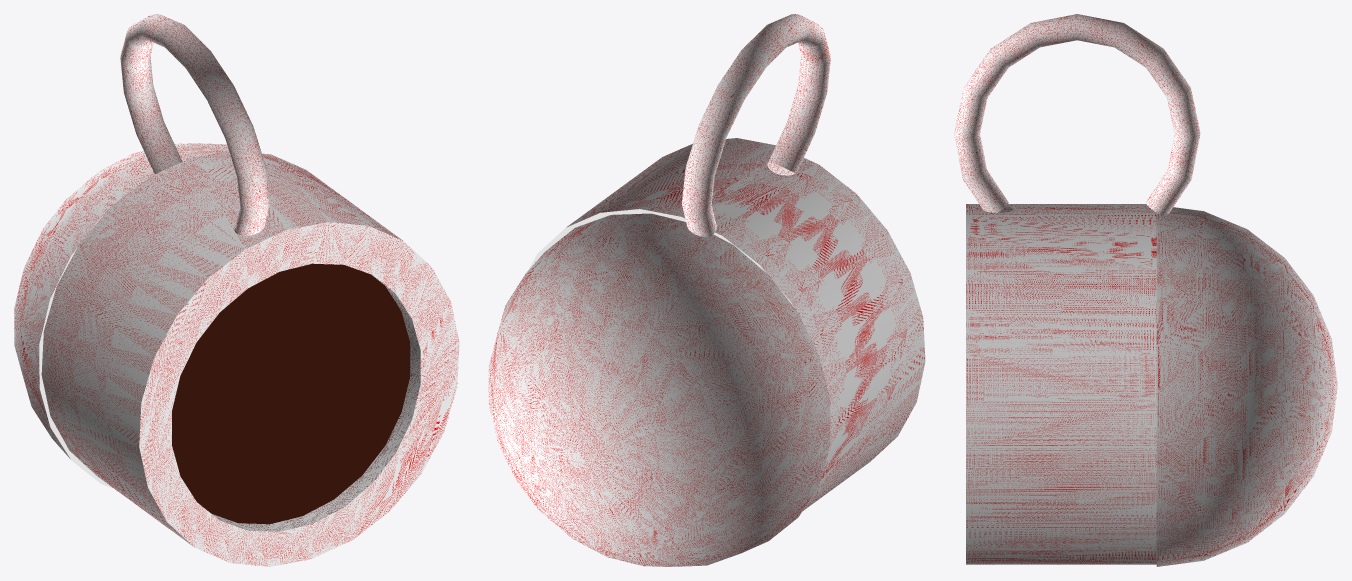
File: model_scale.obj
3 views of the same model, side by side, from view 1: azimuth 30°, elevation 25°; view 2: azimuth 150°, elevation 25°; view 3: azimuth 270°, elevation 25° (orthographic). The views are drawn at different scales.
Visible parts, largest first — view 1: mesh2_mesh2-geometry, mesh1_mesh1-geometry; view 2: mesh1_mesh1-geometry, mesh2_mesh2-geometry; view 3: mesh2_mesh2-geometry, mesh1_mesh1-geometry.
Part boxes in pixels (x1,y1,x2,y2): mesh2_mesh2-geometry: (41, 14, 459, 566); mesh1_mesh1-geometry: (14, 143, 228, 488); mesh1_mesh1-geometry: (488, 213, 830, 566); mesh2_mesh2-geometry: (528, 14, 925, 510); mesh2_mesh2-geometry: (954, 14, 1200, 564); mesh1_mesh1-geometry: (1156, 207, 1337, 566).
Size of the model in its own units: 0.092 by 0.1404 by 0.0971.
